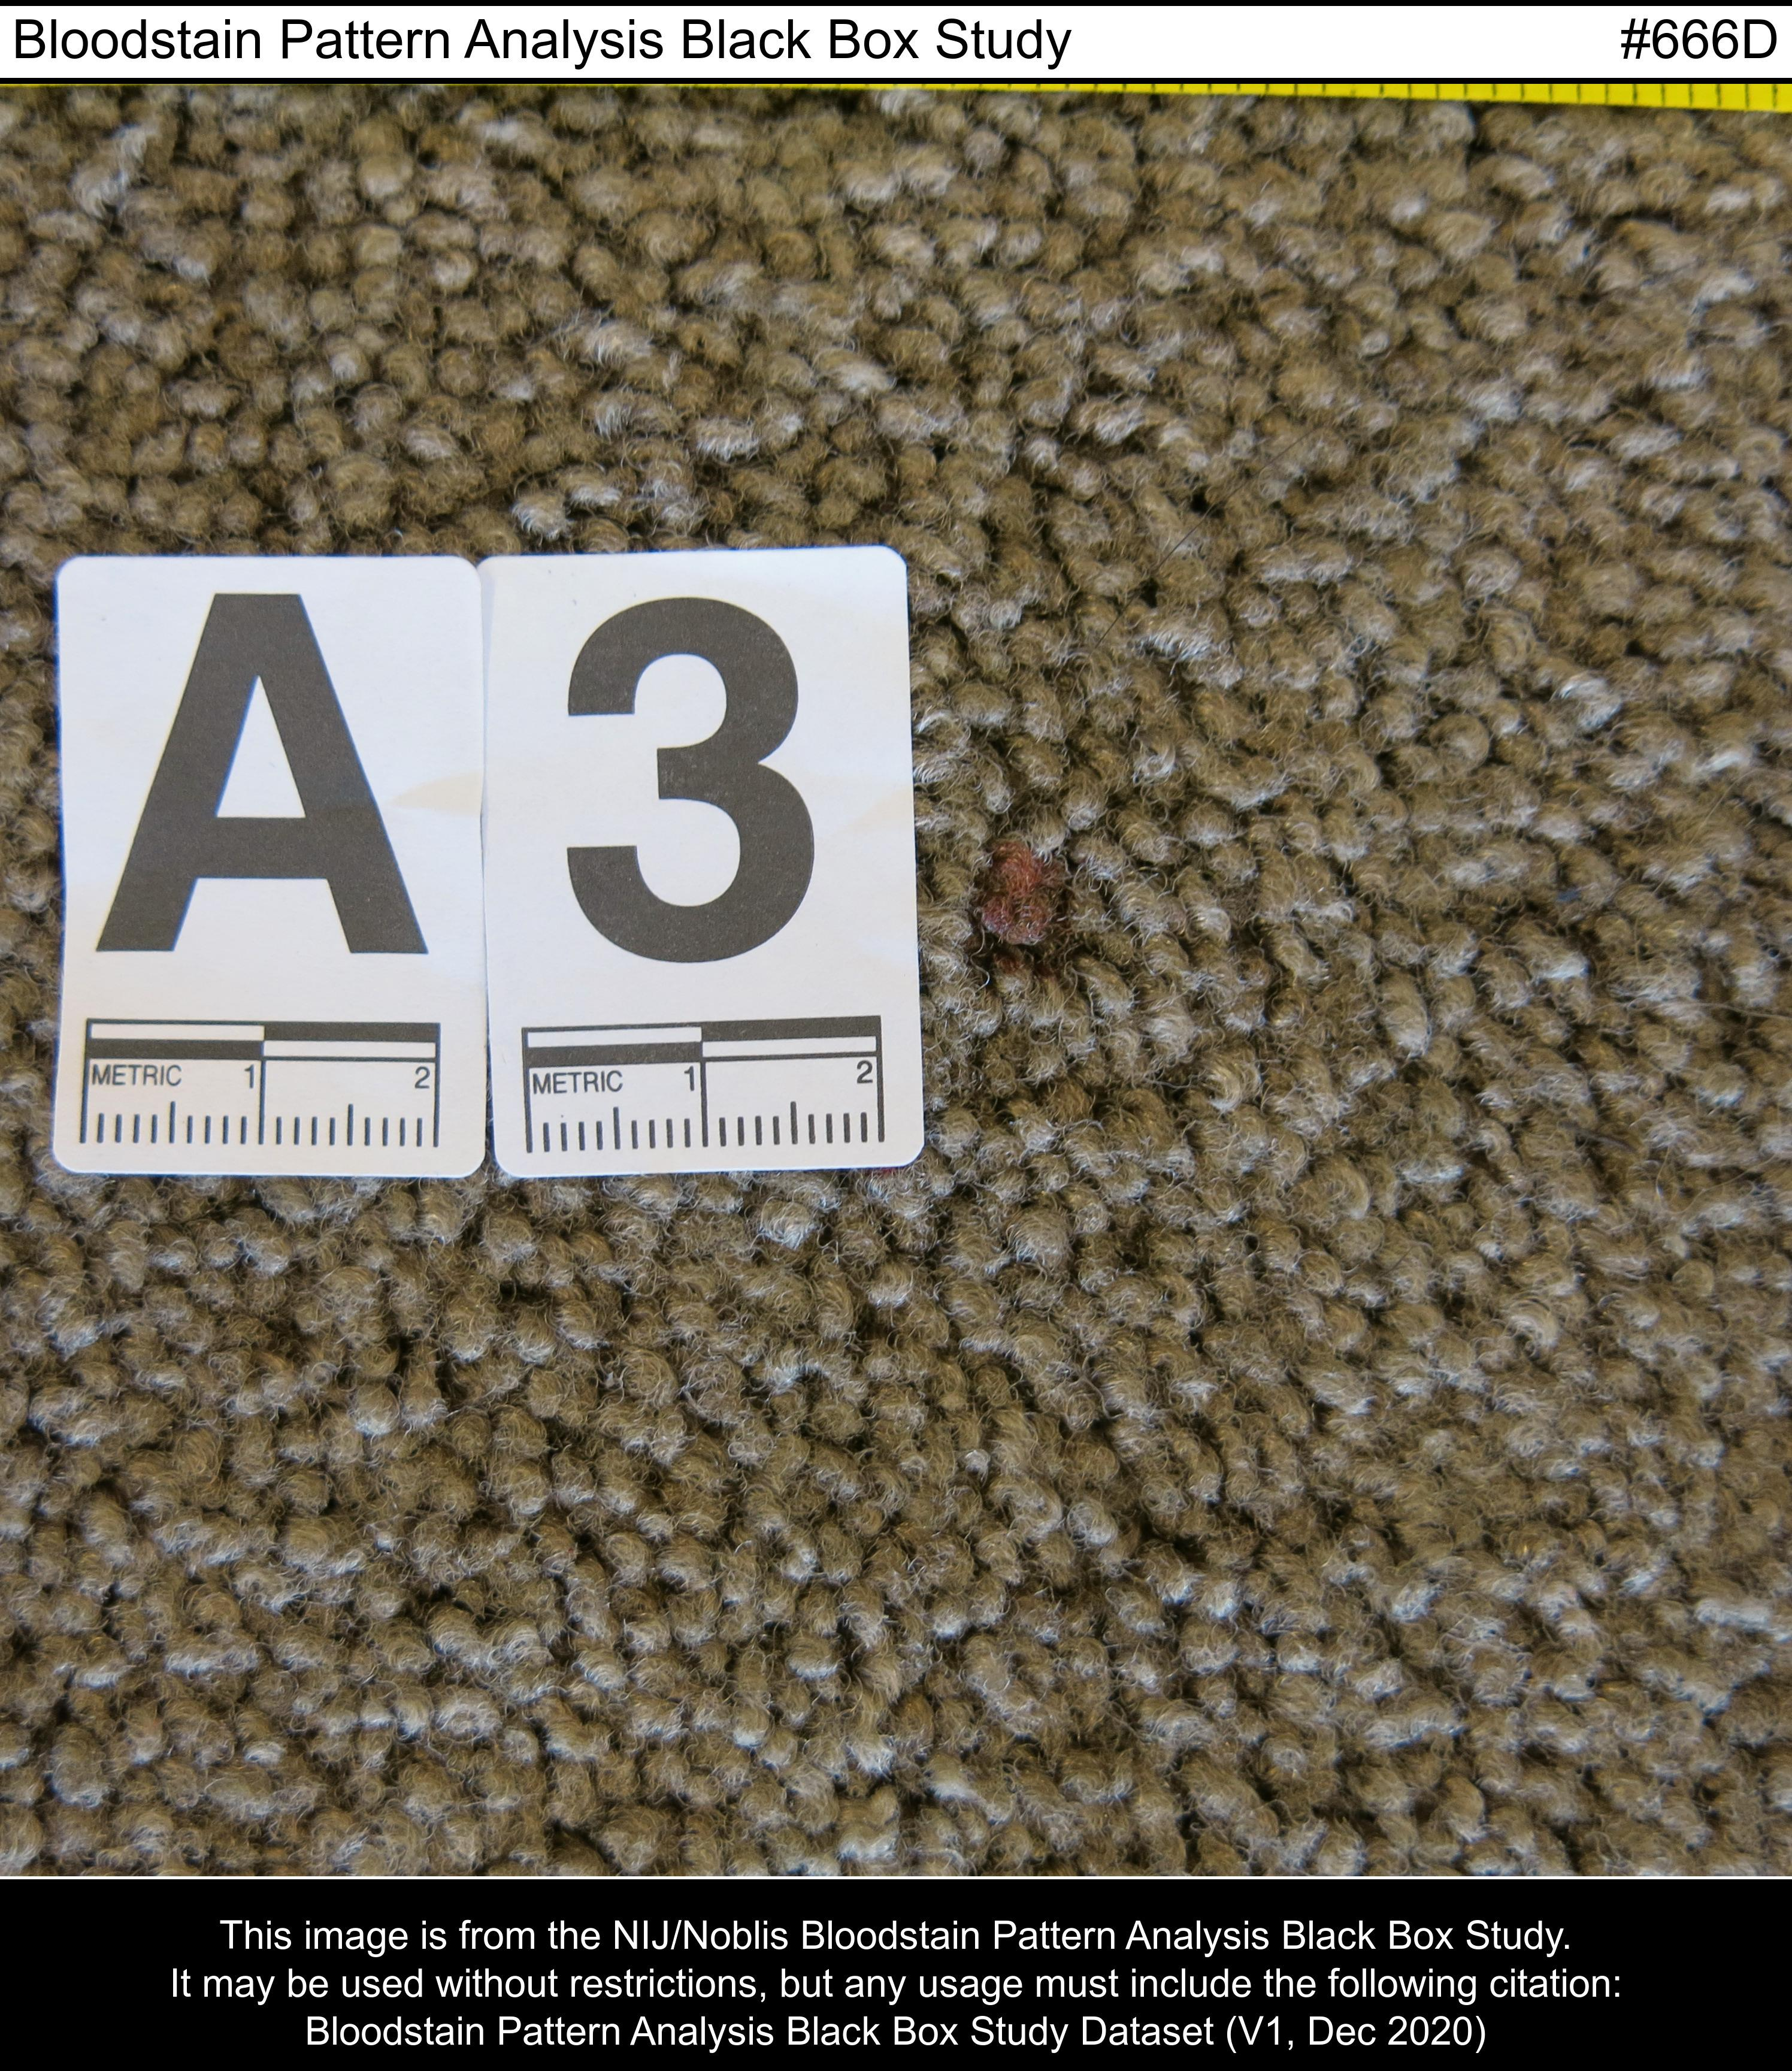Passive: (961, 800, 1128, 1018)
